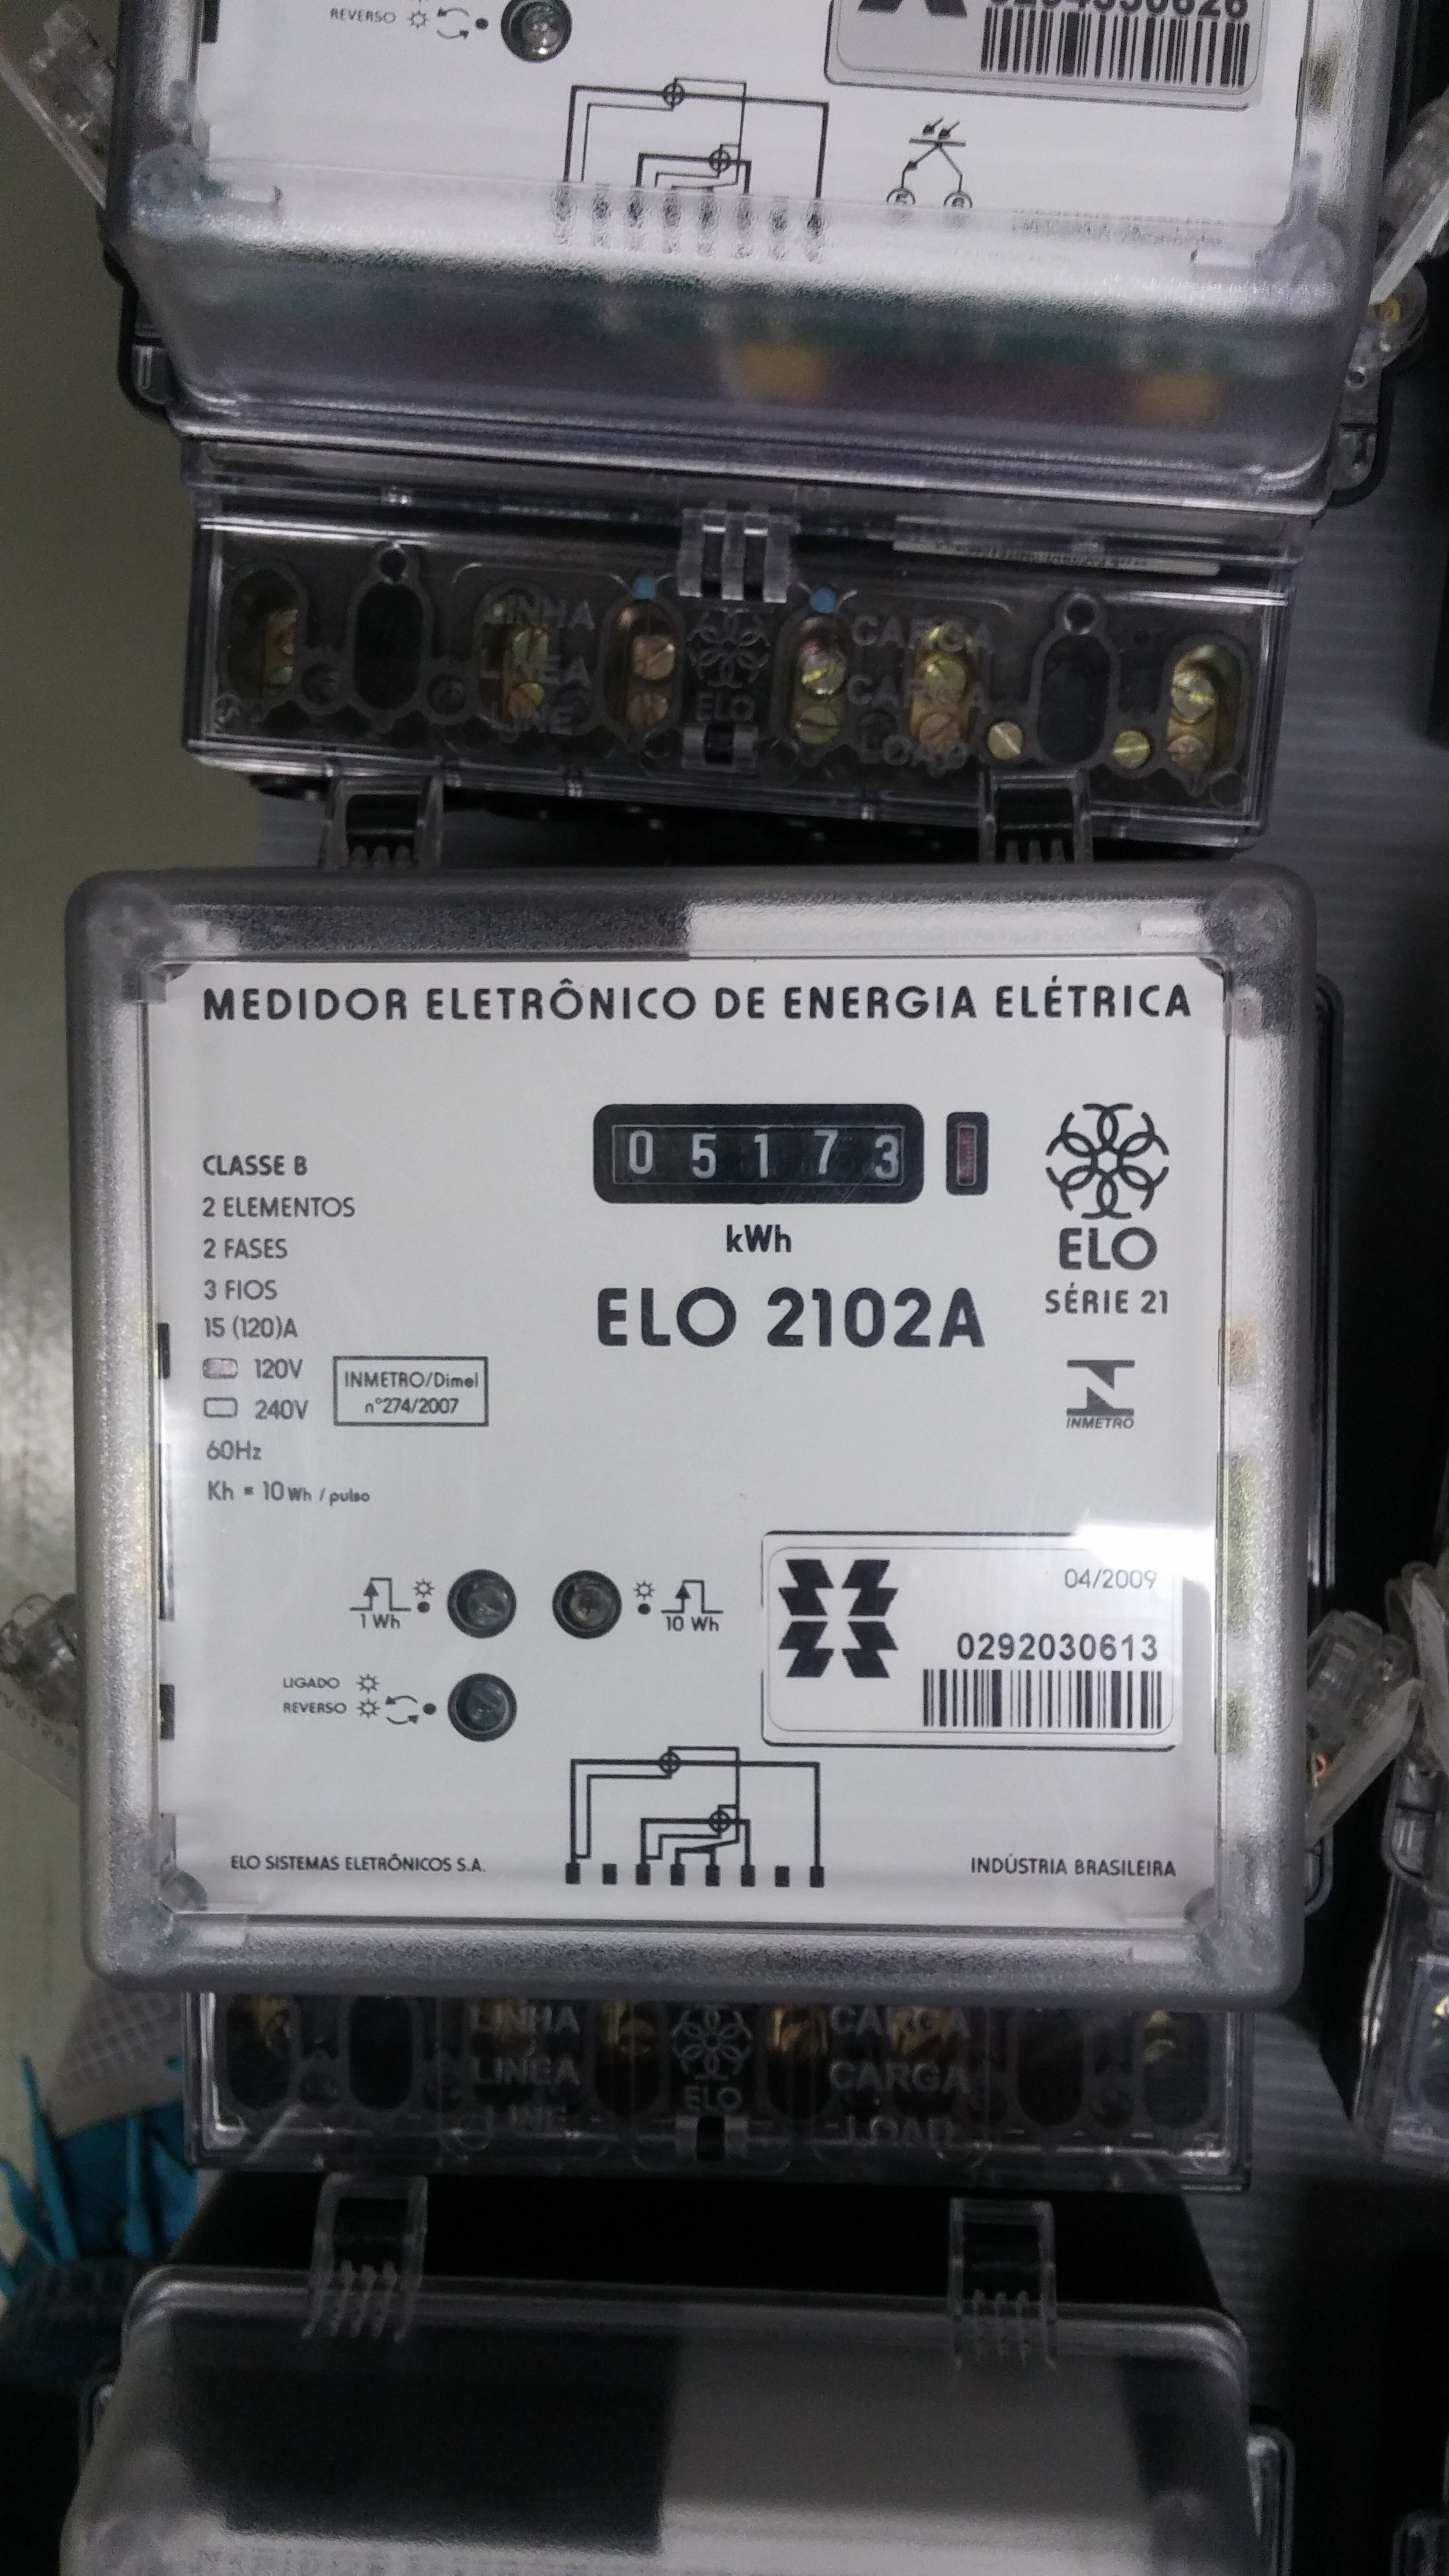counter2: (586, 1086, 938, 1207)
